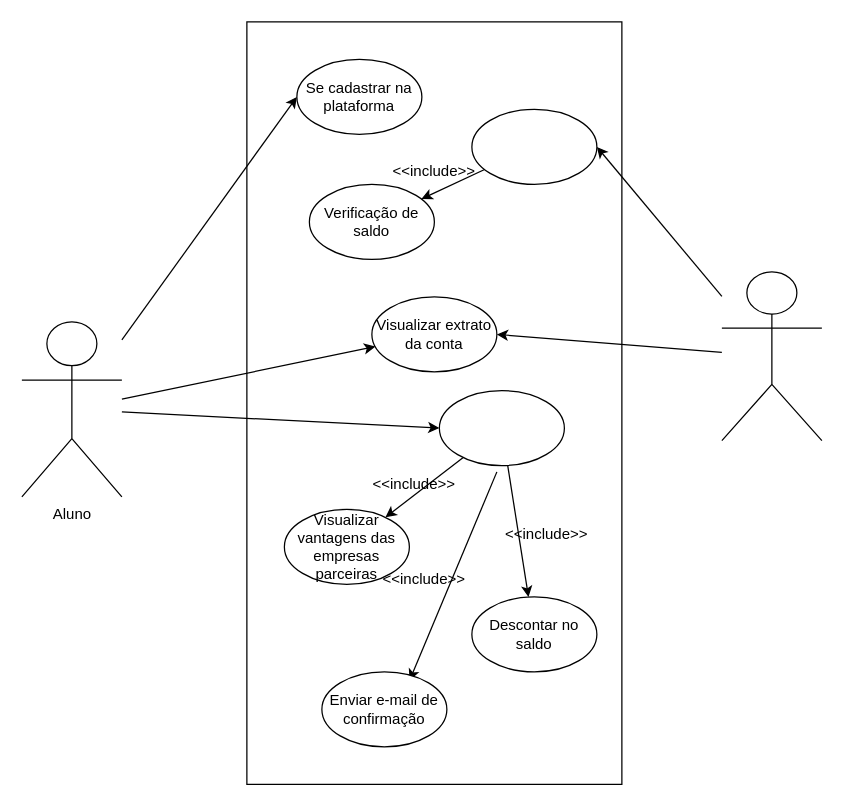
This 844x806 diagram has some shape labels left out. The centre of each missing label's shape, as x and y in pixels:
"Enviar moedas" belongs at (x=534, y=146).
"Professor" belongs at (x=771, y=356).
"Resgatar vantagem" belongs at (x=501, y=427).
